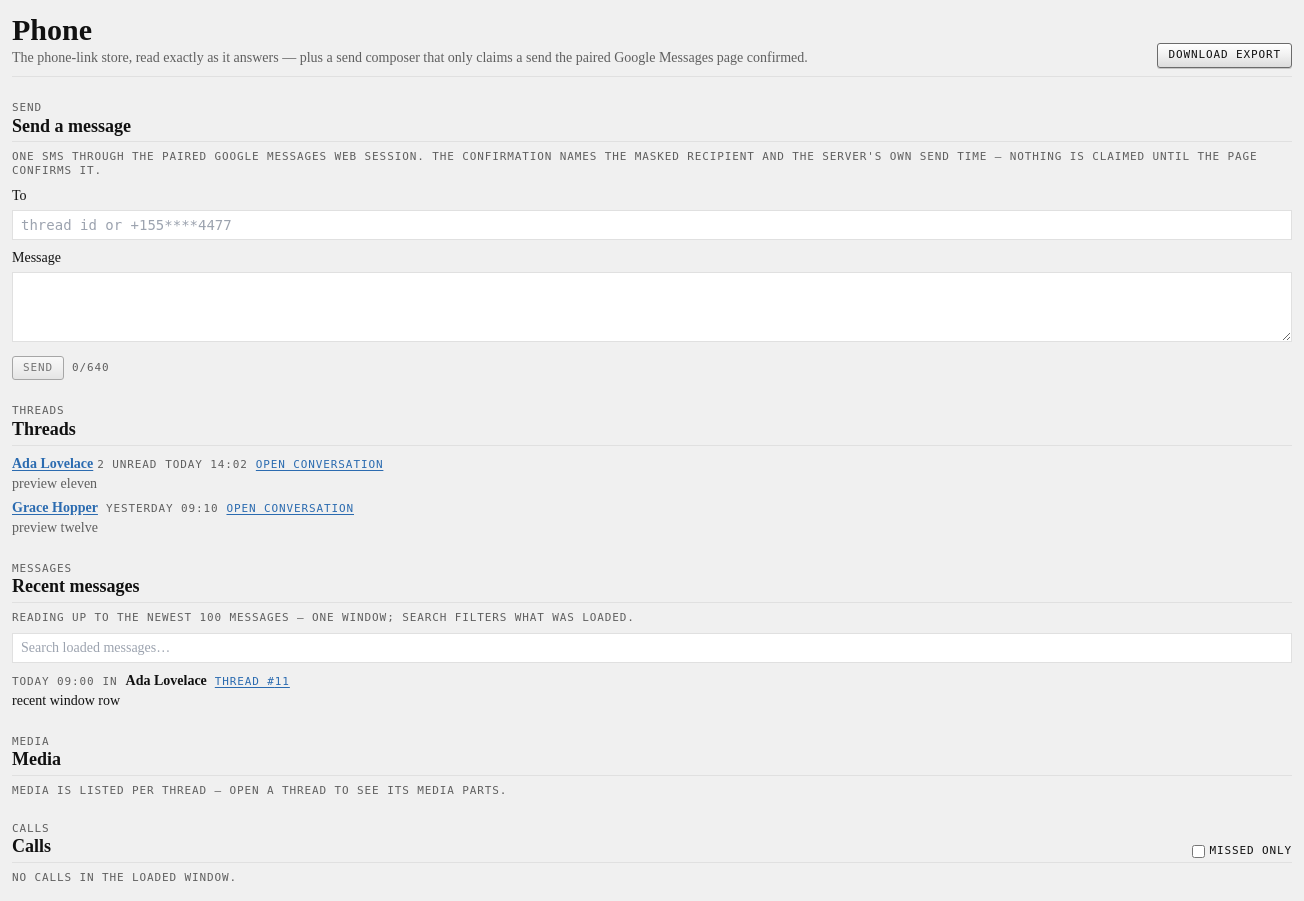
Scenario: phone thread view — fetch on select only › reads no thread on mount; clicking a row reads exactly that thread
The width and height of the screenshot is (1304, 901).
Expected: the list with test id "phone-threads" is shown, 12,456 -> 383,535
Expected: the list with test id "phone-messages" is shown, 12,673 -> 290,708
Click the button with aria-label "Open conversation with Ada Lovelace" at (320, 464), box 256,458 -> 383,471
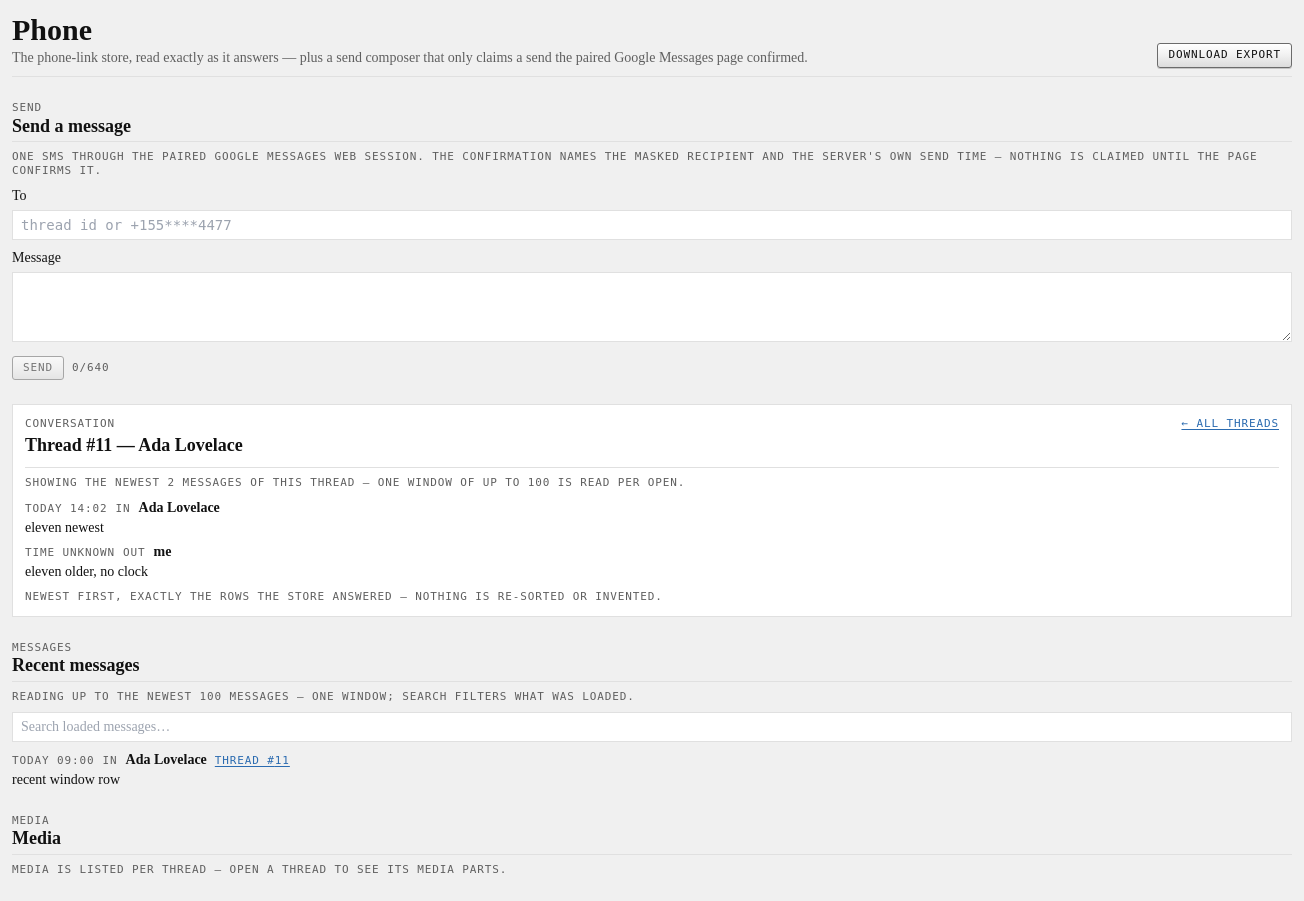
Expected: the number of list items with test id "phone-thread-message" is 2, 25,500 -> 220,535; 25,544 -> 171,579
Expected: the list with test id "phone-threads" is gone
